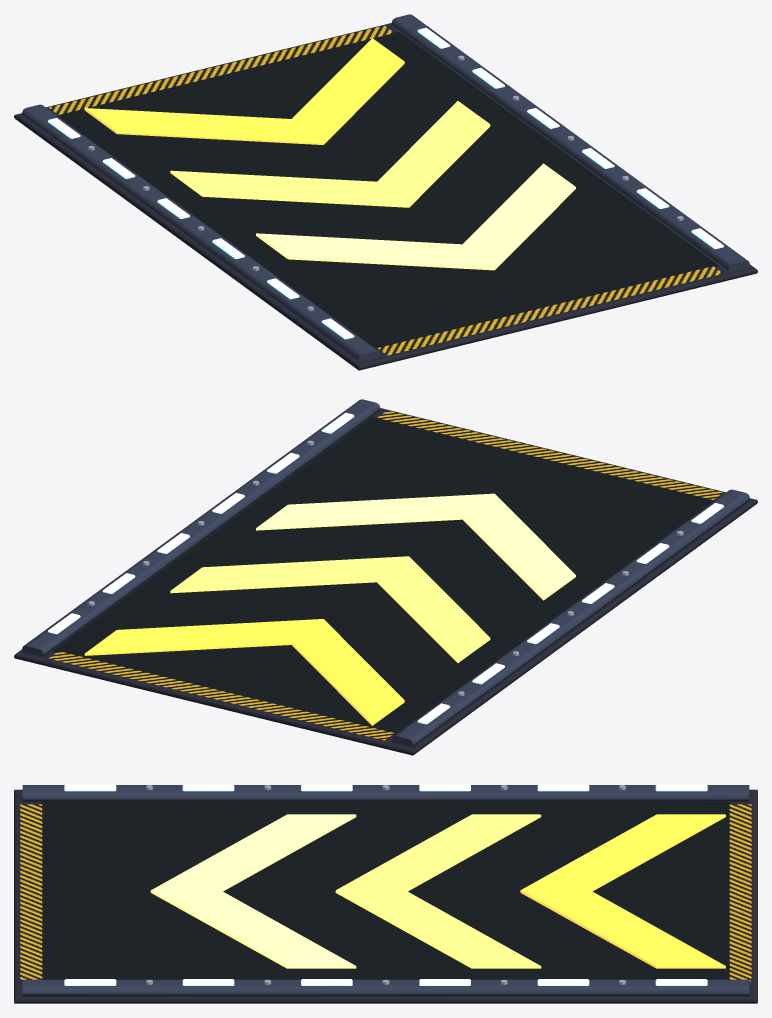
Rendered from boost-pad.glb.
The picture shows the model from 3 angles, top to bottom: view 1: azimuth 30°, elevation 25°; view 2: azimuth 150°, elevation 25°; view 3: azimuth 270°, elevation 25°; orthographic projection. The views are drawn at different scales.
Parts seen in each view (by area): view 1: pad_mesh; view 2: pad_mesh; view 3: pad_mesh.
Part boxes in pixels (box(x1,y1,x2,y2)): pad_mesh: box(14, 14, 757, 370); pad_mesh: box(14, 399, 757, 755); pad_mesh: box(14, 784, 757, 1003).
Size of the model in its own units: 4.04 by 0.1401 by 6.04.
Materials: 6 (1 with a texture image).
